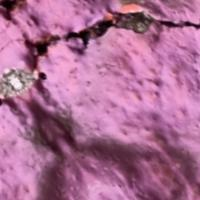crack: (10, 5, 199, 77)
